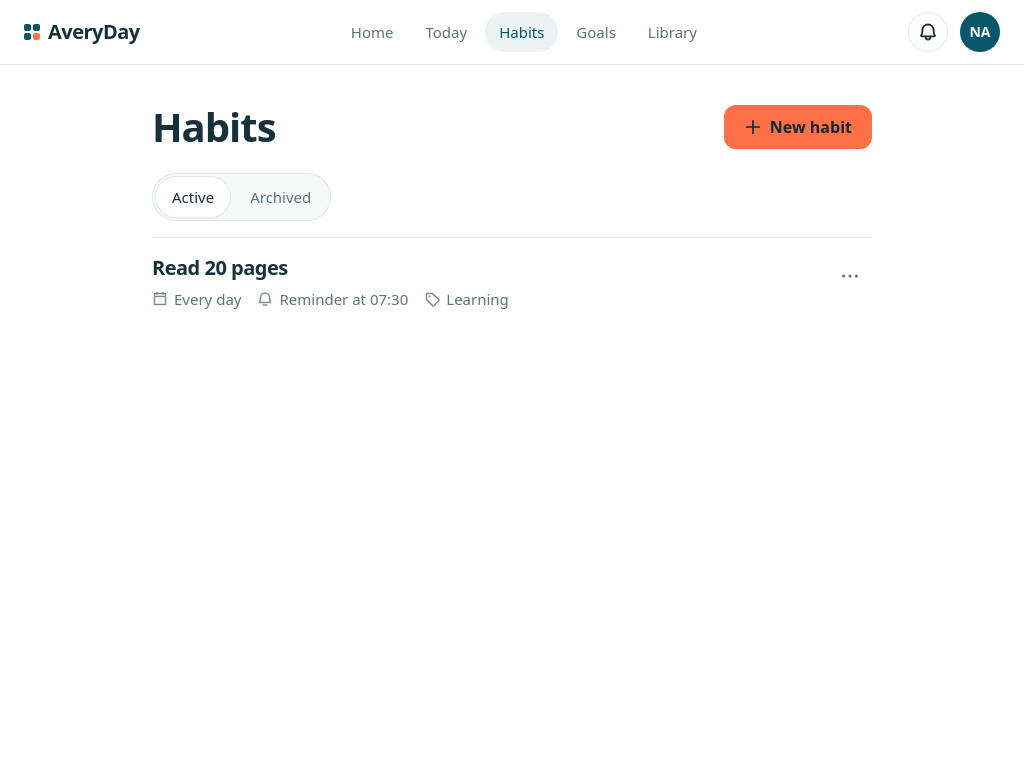
Test: habit detail › opens from the habit list
Click the link "Read 20 pages" at (220, 268), box left=152, top=254, right=288, bottom=281
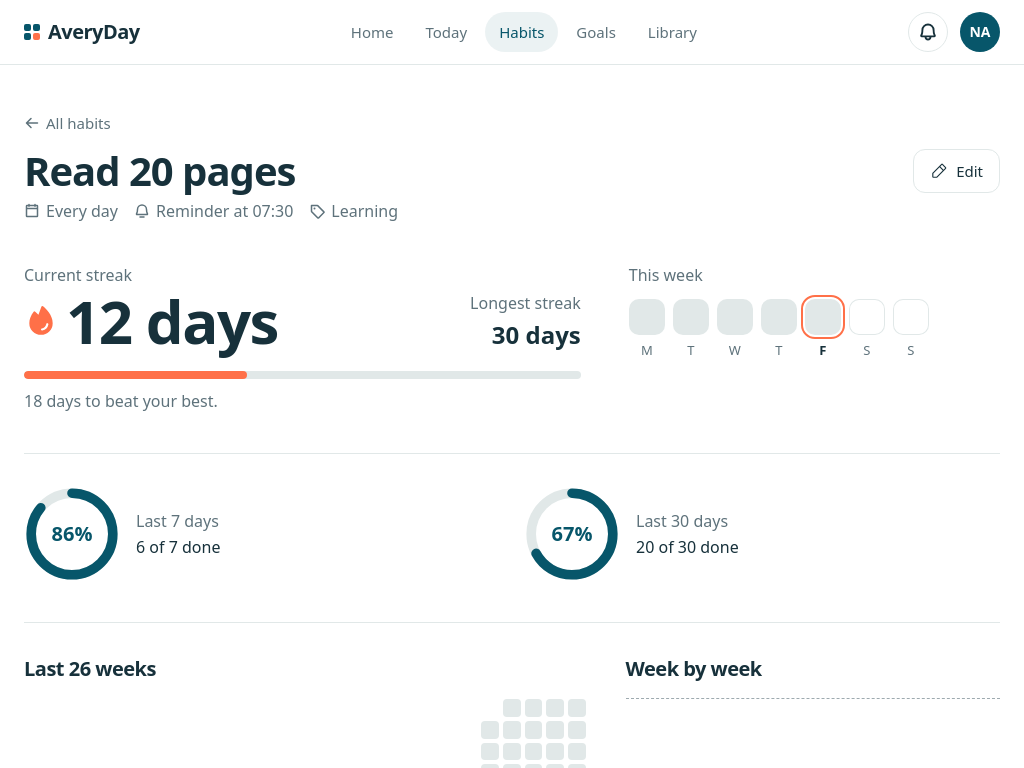
expect the text "Current streak" is shown: met, box left=24, top=264, right=132, bottom=286
